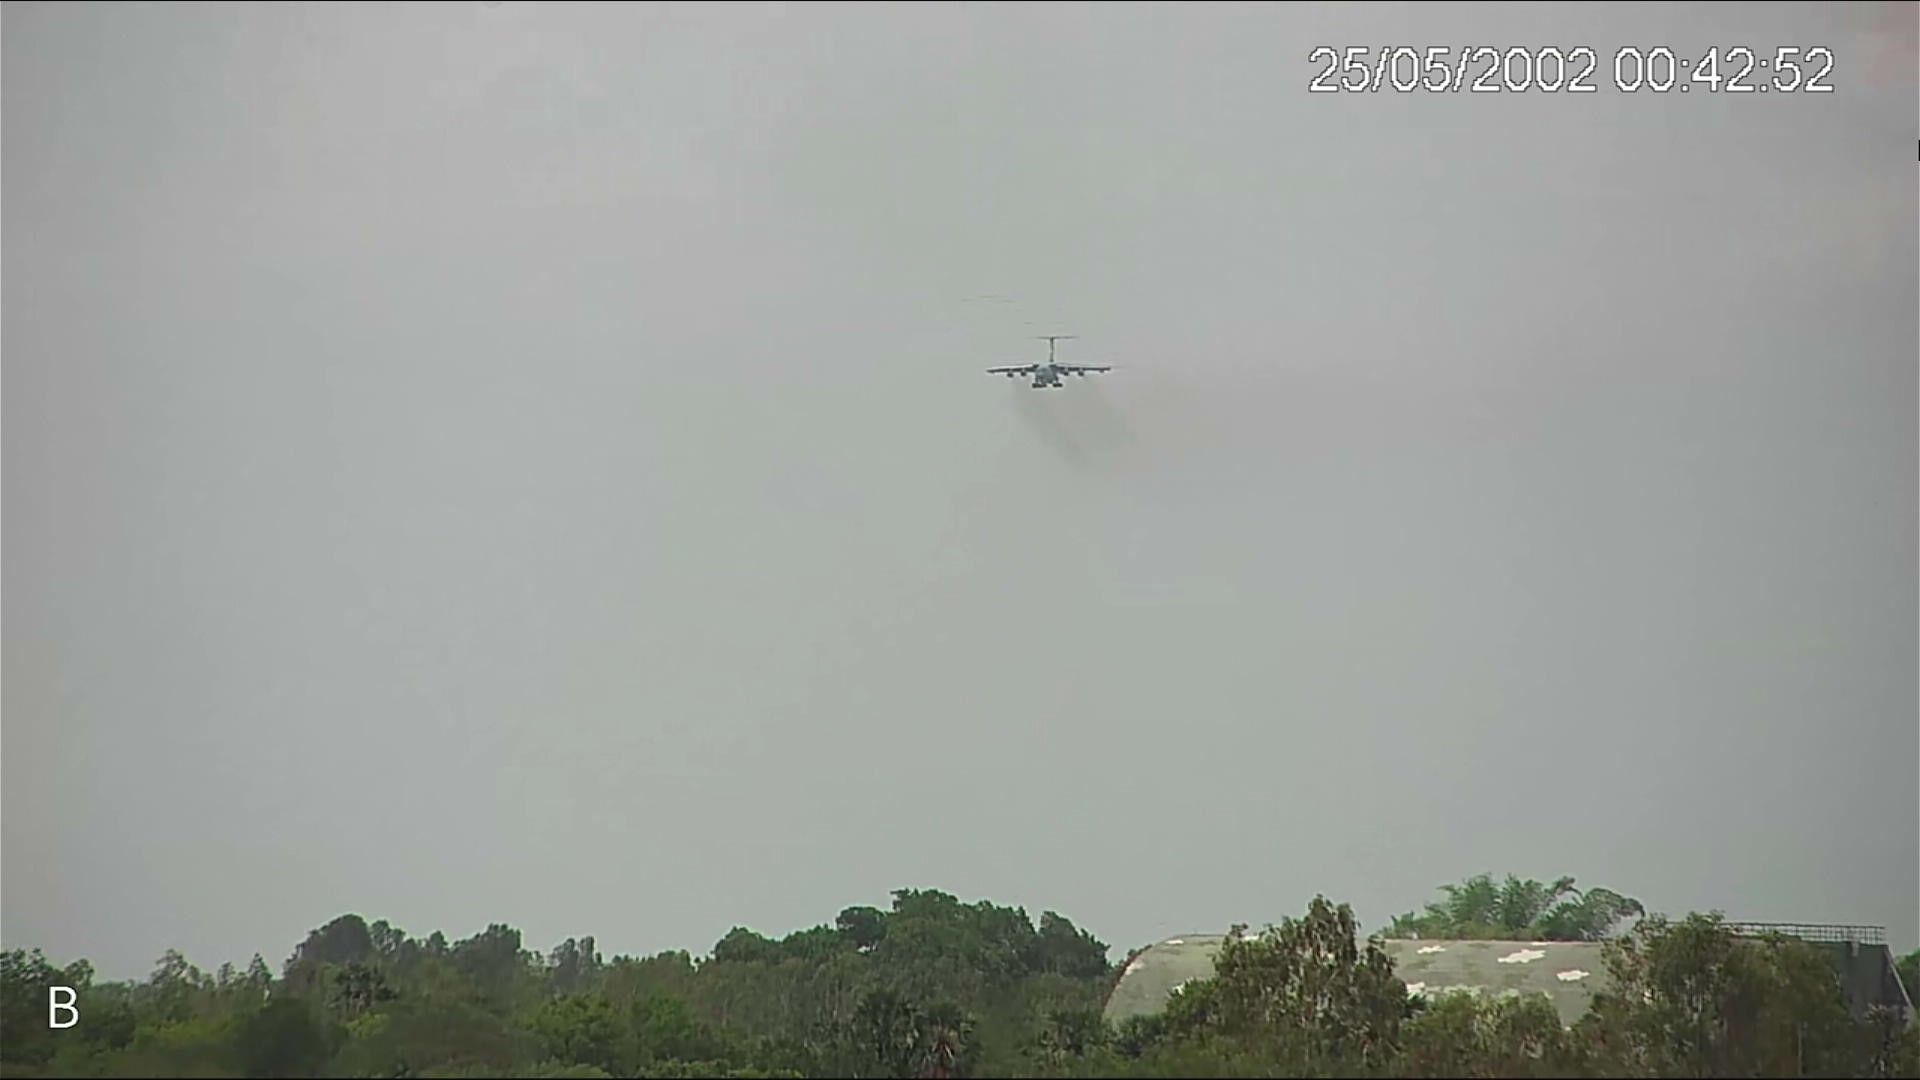SU_30: (990, 332, 1112, 388)
